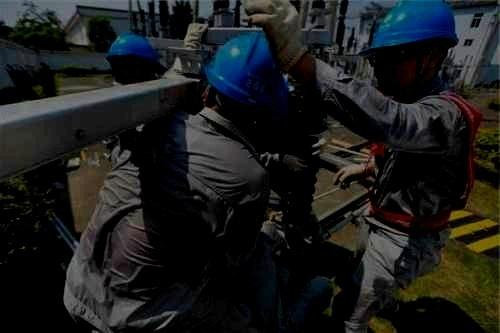helmet: (358, 1, 459, 97), (203, 31, 284, 121), (104, 30, 158, 85)
